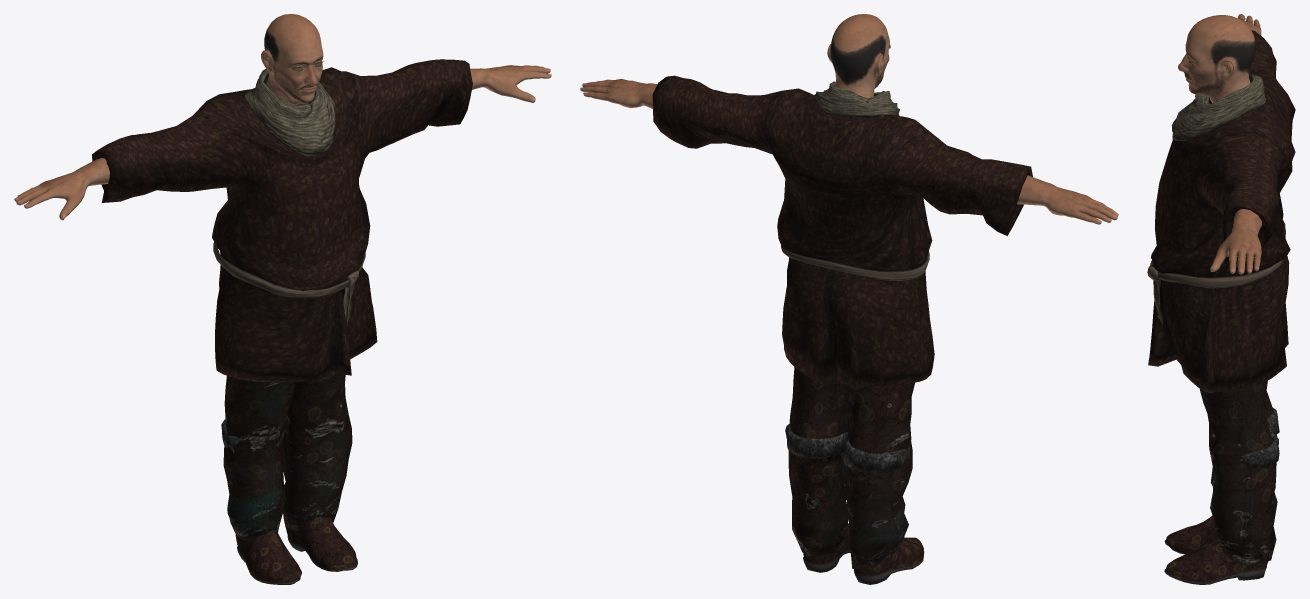
The model's file is old man.obj.
3 views of the same model, side by side, from view 1: azimuth 30°, elevation 25°; view 2: azimuth 150°, elevation 25°; view 3: azimuth 270°, elevation 25° (orthographic).
Parts seen in each view (by area): view 1: Tops, Bottoms, Body, Shoes; view 2: Tops, Bottoms, Body, Shoes; view 3: Tops, Bottoms, Body, Shoes.
Part boxes in pixels (x1=…): Tops: x1=92, y1=59, x2=472, y2=382; Bottoms: x1=223, y1=369, x2=352, y2=540; Body: x1=14, y1=14, x2=551, y2=220; Shoes: x1=221, y1=415, x2=357, y2=584; Tops: x1=652, y1=75, x2=1032, y2=390; Bottoms: x1=788, y1=367, x2=915, y2=568; Body: x1=580, y1=14, x2=1118, y2=224; Shoes: x1=785, y1=424, x2=924, y2=584; Tops: x1=1147, y1=30, x2=1295, y2=393; Bottoms: x1=1199, y1=380, x2=1277, y2=565; Body: x1=1178, y1=14, x2=1262, y2=274; Shoes: x1=1164, y1=407, x2=1279, y2=584.
Size of the model in its own units: 186 by 181 by 44.67.
4 materials, 4 textured.
